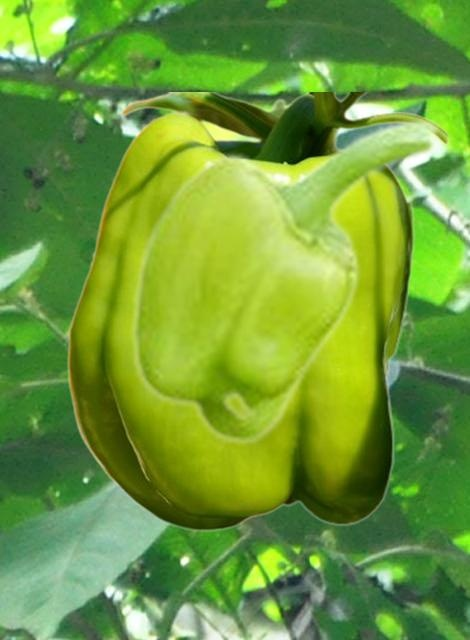bell_pepper: (66, 92, 449, 531), (129, 116, 441, 445)
